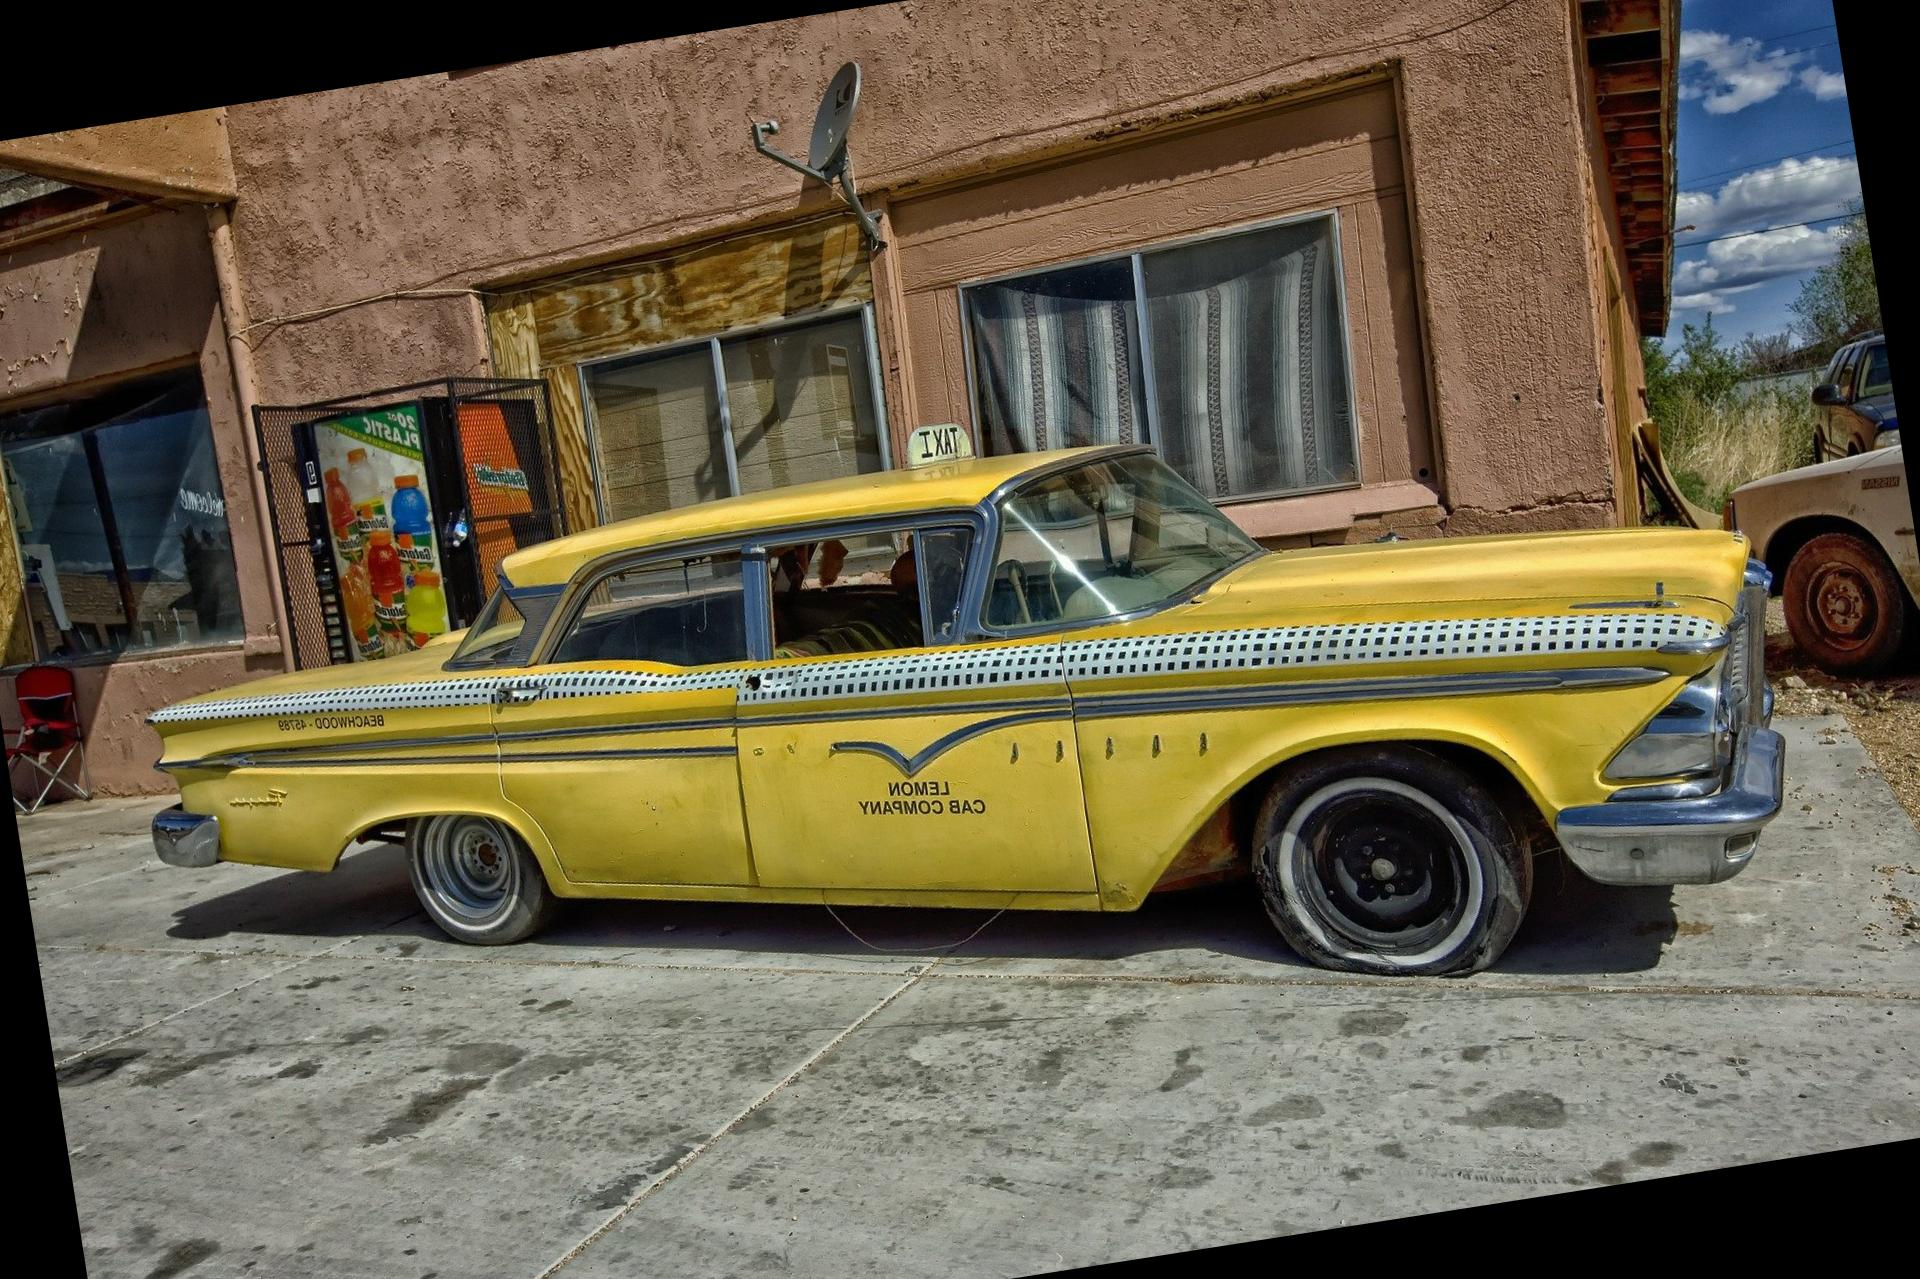taxi: (153, 430, 1782, 996)
